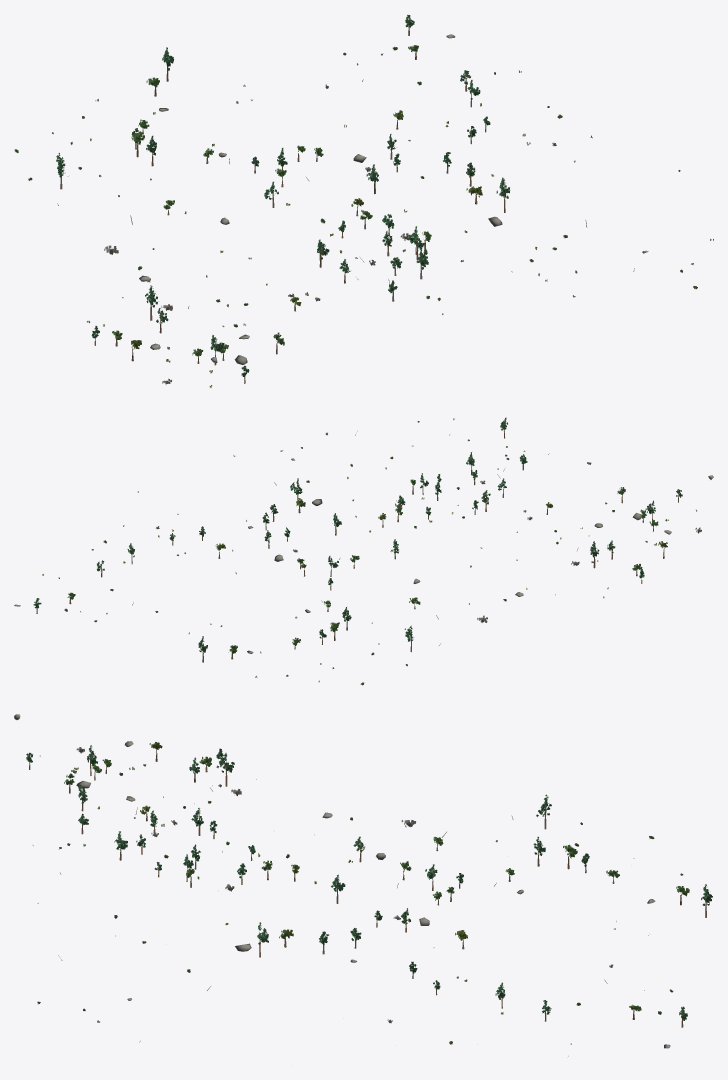
File: arch_land_scatter_c18_17.glb
3 views of the same model, one above another, from view 1: azimuth 30°, elevation 25°; view 2: azimuth 150°, elevation 25°; view 3: azimuth 270°, elevation 25° (orthographic). The views are drawn at different scales.
Visible parts, largest first — view 1: arch_land_scatter_c18_17; view 2: arch_land_scatter_c18_17; view 3: arch_land_scatter_c18_17.
Boxes of the visible parts, box(x1,y1,x2,y2) form: arch_land_scatter_c18_17: box(14, 14, 713, 387); arch_land_scatter_c18_17: box(14, 417, 713, 685); arch_land_scatter_c18_17: box(14, 714, 712, 1056).
Size of the model in its own units: 258 by 43.07 by 257.
